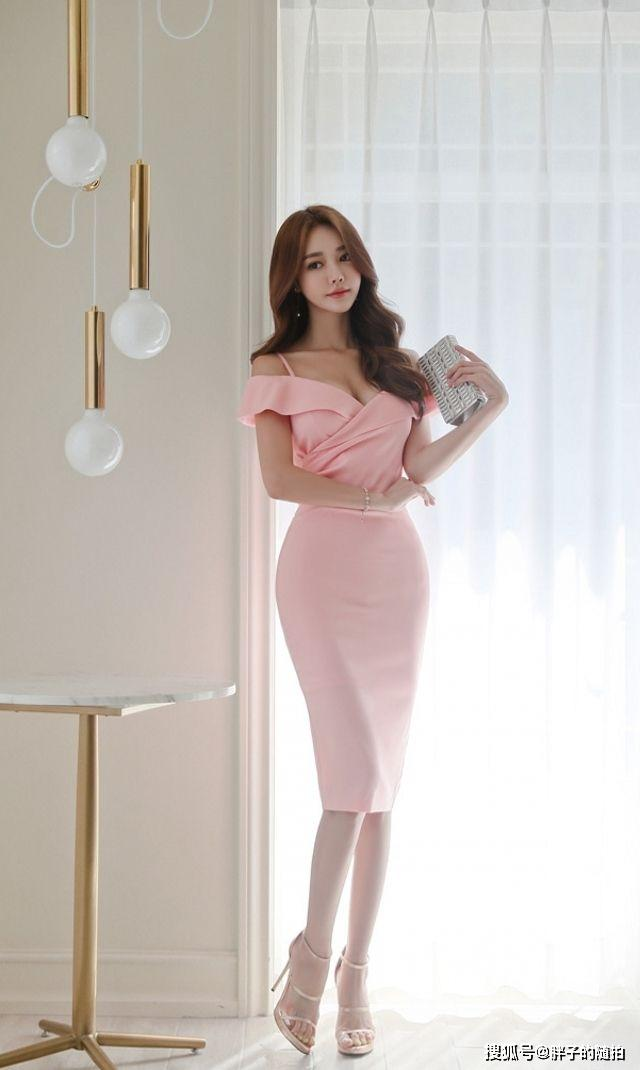up: (219, 189, 520, 1051)
